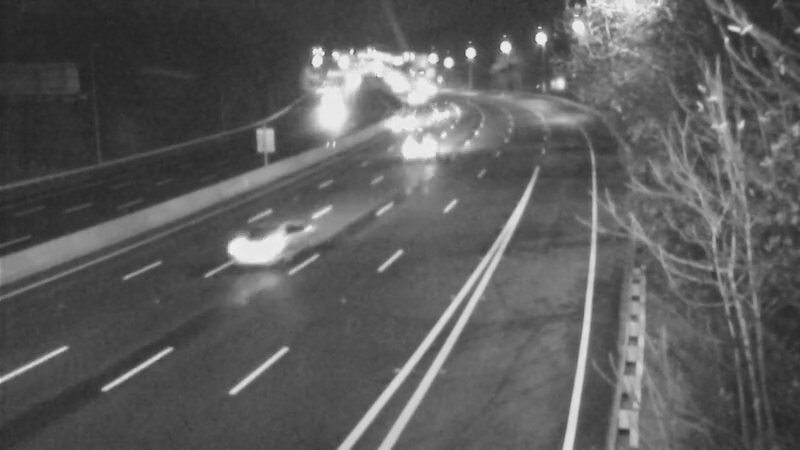vehicle: (209, 210, 289, 290), (390, 73, 440, 123), (418, 89, 468, 139), (375, 95, 425, 145), (391, 122, 441, 172), (301, 86, 351, 136)
